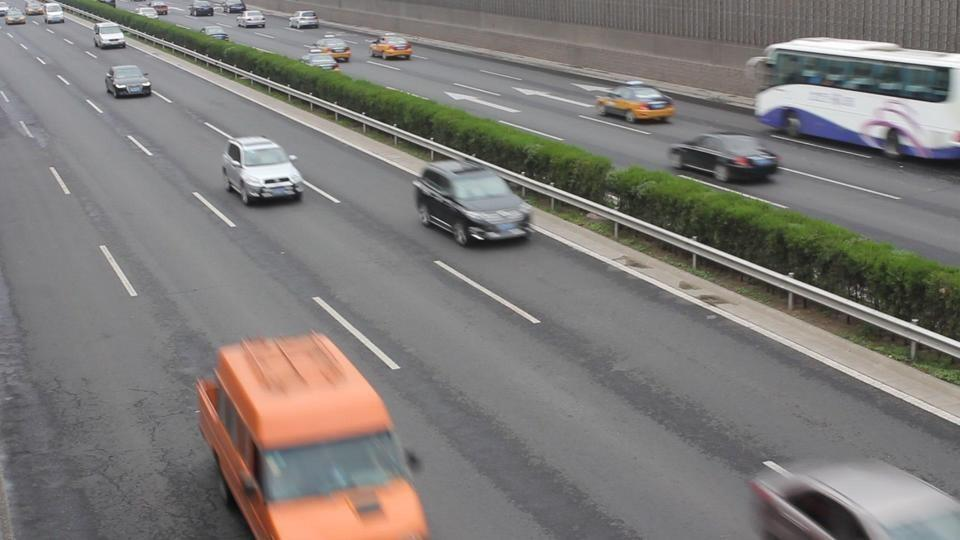car: (746, 456, 959, 537), (411, 156, 534, 246), (220, 135, 304, 205), (671, 133, 783, 183), (593, 81, 676, 124), (104, 64, 152, 98), (367, 33, 414, 60), (311, 34, 353, 64), (92, 22, 127, 50), (288, 9, 319, 29), (237, 10, 267, 28), (44, 1, 64, 25), (4, 7, 27, 26)
